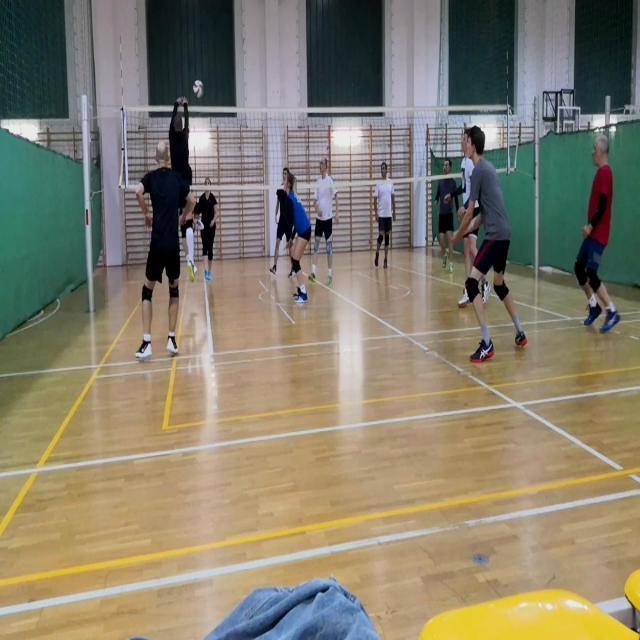volleyball: (192, 80, 203, 98)
